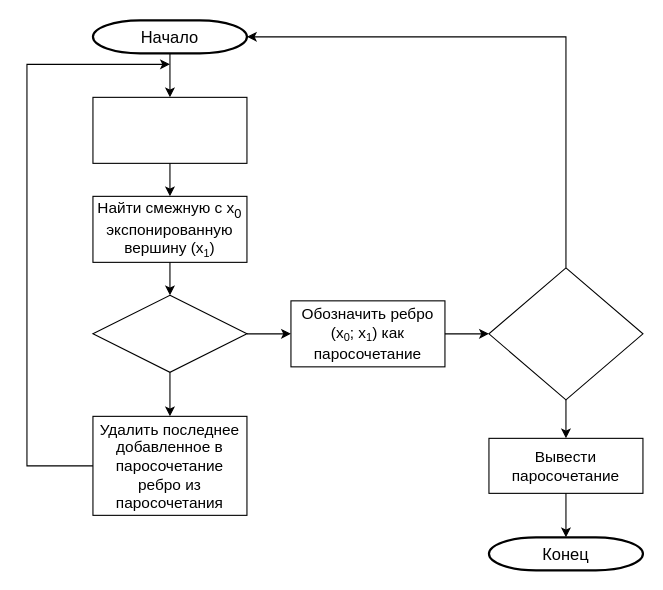
Image size: 663x590. Some labels were removed from this diagram. Here are the shapes that lost their labels. From the top down, the box of each, then its label:
(92, 96, 247, 163): Найти экспонированную вершину (x 0 )
(92, 294, 247, 372): Ребро (x 0 ; x 1 ) найдено
(488, 267, 643, 400): В графе ос- талось больше 2х экспонирован- ных точек
